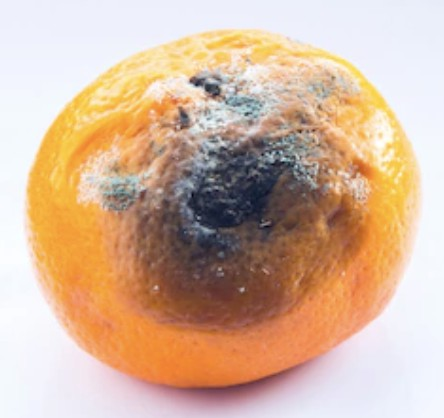rotten_orange: (26, 28, 420, 388)
